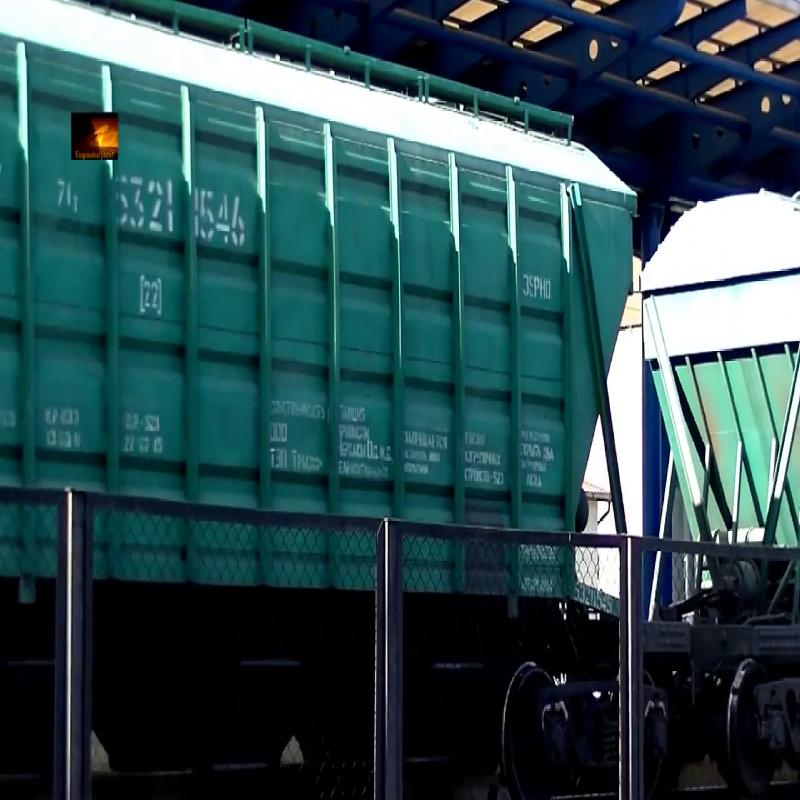train: (4, 7, 710, 778), (720, 9, 800, 781)
